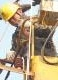gloves: (5, 50, 15, 61)
hard-hat: (0, 0, 19, 19)
